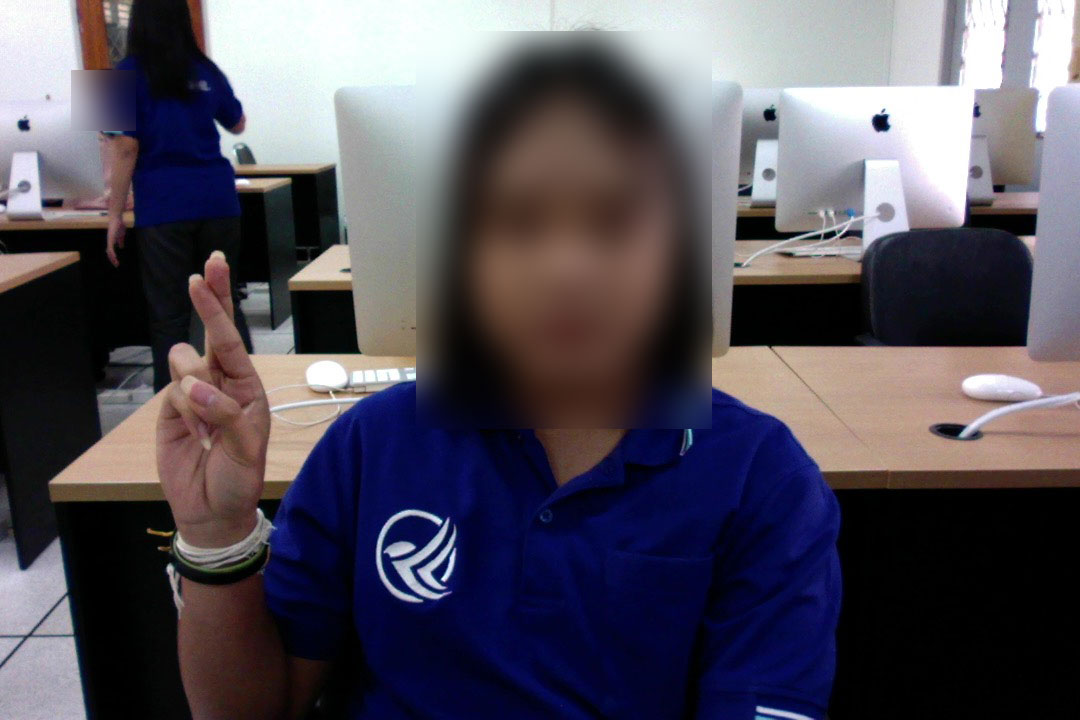rao: (149, 251, 275, 534)
